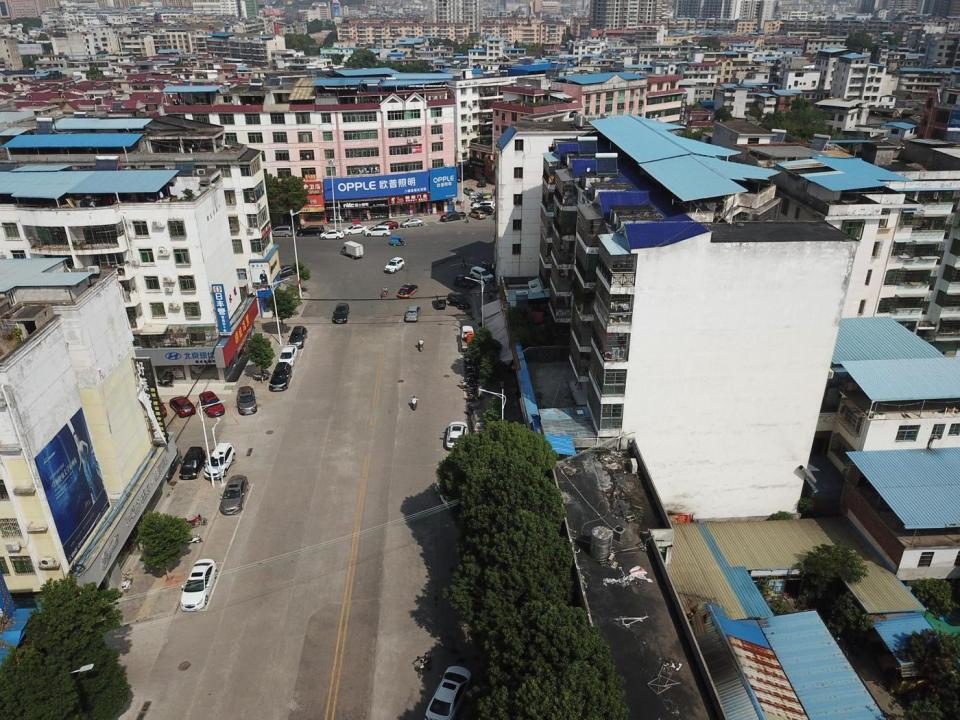car: (425, 666, 473, 720), (181, 559, 219, 612), (220, 475, 247, 516), (206, 441, 234, 480), (178, 447, 204, 478), (271, 361, 291, 393), (446, 421, 468, 449), (199, 391, 224, 415), (237, 386, 257, 415), (171, 395, 193, 418), (162, 364, 204, 376), (289, 325, 308, 348), (148, 395, 167, 418), (469, 265, 494, 282), (279, 345, 298, 367), (332, 302, 350, 325), (448, 292, 470, 308), (397, 283, 418, 298), (296, 225, 324, 236), (344, 224, 368, 235), (405, 306, 421, 322), (276, 265, 296, 277), (400, 218, 424, 228), (320, 230, 344, 239), (471, 202, 494, 211), (376, 221, 398, 230), (473, 206, 493, 215), (468, 210, 486, 219), (473, 201, 496, 207), (471, 200, 490, 206), (468, 194, 484, 200), (478, 176, 486, 186), (464, 188, 475, 195)
truck: (472, 410, 491, 444), (460, 325, 475, 350)
van: (340, 240, 364, 259), (364, 226, 391, 237), (269, 225, 293, 237), (436, 294, 446, 308), (476, 194, 492, 202)
